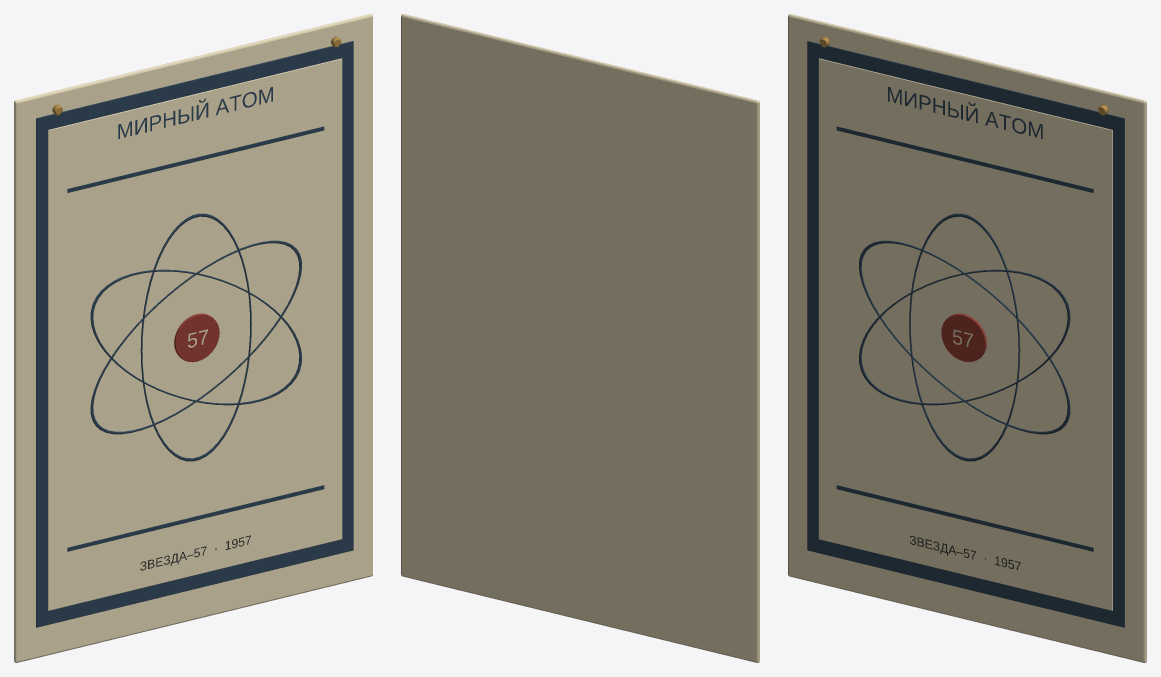
Rendered from Poster_NuclearCity.fbx.
3 renders of one model, left to right at view 1: azimuth 30°, elevation 25°; view 2: azimuth 150°, elevation 25°; view 3: azimuth 330°, elevation 25°, orthographic.
Visible parts, largest first — view 1: Print panel, Pinned paper, Printed border, Atom core, Orbit.001, Orbit, Orbit.002, Printed rule.003, Printed rule.004, Label.054; view 2: Pinned paper; view 3: Print panel, Pinned paper, Printed border, Atom core, Orbit.002, Orbit, Orbit.001, Printed rule.003, Printed rule.004, Label.054.
Boxes of the visible parts, box(x1,y1,x2,y2) form: Print panel: box(48, 58, 342, 610); Pinned paper: box(14, 14, 372, 662); Printed border: box(36, 41, 353, 627); Atom core: box(174, 313, 219, 362); Orbit.001: box(90, 240, 301, 434); Orbit: box(140, 213, 251, 461); Orbit.002: box(90, 269, 301, 405); Printed rule.003: box(67, 485, 324, 551); Printed rule.004: box(67, 126, 324, 192); Label.054: box(118, 87, 272, 138); Pinned paper: box(401, 14, 759, 662); Print panel: box(818, 58, 1112, 610); Pinned paper: box(788, 14, 1146, 662); Printed border: box(807, 41, 1124, 627); Atom core: box(941, 313, 986, 362); Orbit.002: box(859, 240, 1070, 434); Orbit: box(909, 213, 1020, 461); Orbit.001: box(859, 269, 1070, 405); Printed rule.003: box(836, 485, 1093, 551); Printed rule.004: box(836, 126, 1093, 192); Label.054: box(888, 87, 1042, 138).
Size of the model in its own units: 0.368 by 0.552 by 0.0108.
